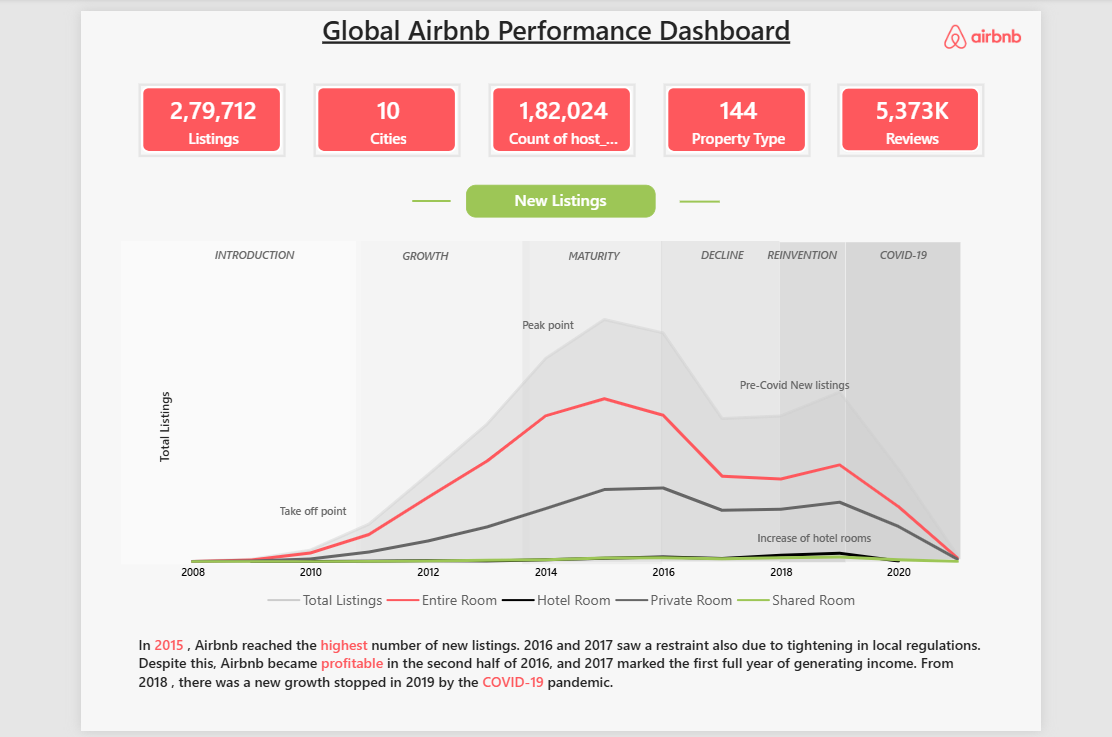

This screenshot's page, from the dashboard's own definition file:
{"tool":"powerbi","page":{"name":"Overview","canvas":[960,720],"ordinal":0},"visuals":[{"type":"group","id":"g1","title":"Red Group","box":[56.9,72.5,846.2,73.8],"z":0},{"type":"cardVisual","fields":{"Data":["CountNonNull(Listings.listing_id)"]},"box":[56.9,72.5,147,73.8],"z":0,"group":"g1"},{"type":"textbox","title":"Green Text","box":[385.2,173.7,189.4,32.6],"z":0,"group":"g3"},{"type":"group","id":"g2","title":"Background Group","box":[40,230,838.9,323.2],"z":0,"group":"g6"},{"type":"shape","box":[764.4,231,114.5,317.1],"z":0,"group":"g2"},{"type":"textbox","title":"6 Text","box":[133.3,232.6,161.6,34.6],"z":0,"group":"g5"},{"type":"textbox","box":[198.9,489.1,161.6,35.9],"z":0,"group":"g4"},{"type":"textbox","box":[241.2,0,515,43.8],"z":1000},{"type":"cardVisual","fields":{"Data":["Count(Listings.city)"]},"box":[231.7,72.5,147,73.8],"z":1000,"group":"g1"},{"type":"shape","box":[331.2,165,38.8,50],"z":1000,"group":"g3"},{"type":"shape","box":[580.1,230,118.5,320.3],"z":1000,"group":"g2"},{"type":"textbox","title":"6 Text","box":[320.5,233.9,161.6,38.6],"z":1000,"group":"g5"},{"type":"textbox","box":[676.7,516.5,161.6,35.9],"z":1000,"group":"g4"},{"type":"cardVisual","fields":{"Data":["Count(Listings.host_id)"]},"box":[406.5,72.5,147,73.8],"z":2000,"group":"g1"},{"type":"group","id":"g3","title":"Green Group","box":[331.2,165,307.5,50],"z":2000},{"type":"shape","box":[598.7,167.5,40,46.2],"z":2000,"group":"g3"},{"type":"shape","box":[698.7,231,65.7,320.3],"z":2000,"group":"g2"},{"type":"textbox","box":[619,232.1,161.6,38.6],"z":2000,"group":"g5"},{"type":"lineChart","title":"Main Chart","fields":{"Category":["Listings.host_since.Variation.Date Hierarchy.Year"],"Y":["CountNonNull(Listings.listing_id)","Listings.Entire Room","Listings.Hotel Room","Listings.Private Room","Listings.Shared Room"]},"box":[63,258,841.9,361.8],"z":2000,"group":"g6"},{"type":"textbox","box":[658.6,363.3,161.6,35.9],"z":2000,"group":"g4"},{"type":"image","box":[842.1,13.3,118.2,24.1],"z":3000},{"type":"cardVisual","fields":{"Data":["Count(Listings.property_type)"]},"box":[581.3,72.5,147,73.8],"z":3000,"group":"g1"},{"type":"shape","box":[40,230,239.8,323.2],"z":3000,"group":"g2"},{"type":"textbox","title":"6 Text","box":[487.6,233.2,161.6,38.6],"z":3000,"group":"g5"},{"type":"group","id":"g4","title":"Point Text Group","box":[198.9,303,639.5,249.5],"z":3000,"group":"g6"},{"type":"textbox","box":[441.4,303,161.6,35.9],"z":3000,"group":"g4"},{"type":"group","id":"g5","title":"6 Text Group","box":[133.3,232.1,826.7,40.4],"z":3500,"group":"g6"},{"type":"cardVisual","fields":{"Data":["Count(Reviews.review_id)"]},"box":[756.1,72.5,147,73.8],"z":4000,"group":"g1"},{"type":"shape","box":[274.7,230,173.8,323.2],"z":4000,"group":"g2"},{"type":"textbox","title":"6 Text","box":[685.6,232.6,161.6,38.6],"z":4000,"group":"g5"},{"type":"textbox","box":[57.5,623.8,843.8,77.5],"z":4000},{"type":"group","id":"g6","title":"Main Group","box":[40,230,920,389.8],"z":5000},{"type":"shape","box":[441.7,230,140.1,323.2],"z":5000,"group":"g2"},{"type":"textbox","title":"6 Text","box":[798.4,232.4,161.6,38.6],"z":5000,"group":"g5"}]}

Visuals, with their boxes on the page's 960x720 design canvas (x1, y1, x2, y2). These are canvas units, not pixel positions in the 1112x737 screenshot, which may show the page scaled, cropped or inside an application window:
"Red Group" group: l=57, t=72, r=903, b=146
cardVisual - CountNonNull(Listings.listing_id): l=57, t=72, r=204, b=146
"Green Text" textbox: l=385, t=174, r=575, b=206
"Background Group" group: l=40, t=230, r=879, b=553
shape: l=764, t=231, r=879, b=548
"6 Text" textbox: l=133, t=233, r=295, b=267
textbox: l=199, t=489, r=360, b=525
textbox: l=241, t=0, r=756, b=44
cardVisual - Count(Listings.city): l=232, t=72, r=379, b=146
shape: l=331, t=165, r=370, b=215
shape: l=580, t=230, r=699, b=550
"6 Text" textbox: l=320, t=234, r=482, b=272
textbox: l=677, t=516, r=838, b=552
cardVisual - Count(Listings.host_id): l=406, t=72, r=554, b=146
"Green Group" group: l=331, t=165, r=639, b=215
shape: l=599, t=168, r=639, b=214
shape: l=699, t=231, r=764, b=551
textbox: l=619, t=232, r=781, b=271
"Main Chart" lineChart: l=63, t=258, r=905, b=620
textbox: l=659, t=363, r=820, b=399
image: l=842, t=13, r=960, b=37
cardVisual - Count(Listings.property_type): l=581, t=72, r=728, b=146
shape: l=40, t=230, r=280, b=553
"6 Text" textbox: l=488, t=233, r=649, b=272
"Point Text Group" group: l=199, t=303, r=838, b=552
textbox: l=441, t=303, r=603, b=339
"6 Text Group" group: l=133, t=232, r=960, b=272
cardVisual - Count(Reviews.review_id): l=756, t=72, r=903, b=146
shape: l=275, t=230, r=448, b=553
"6 Text" textbox: l=686, t=233, r=847, b=271
textbox: l=58, t=624, r=901, b=701
"Main Group" group: l=40, t=230, r=960, b=620
shape: l=442, t=230, r=582, b=553
"6 Text" textbox: l=798, t=232, r=960, b=271
